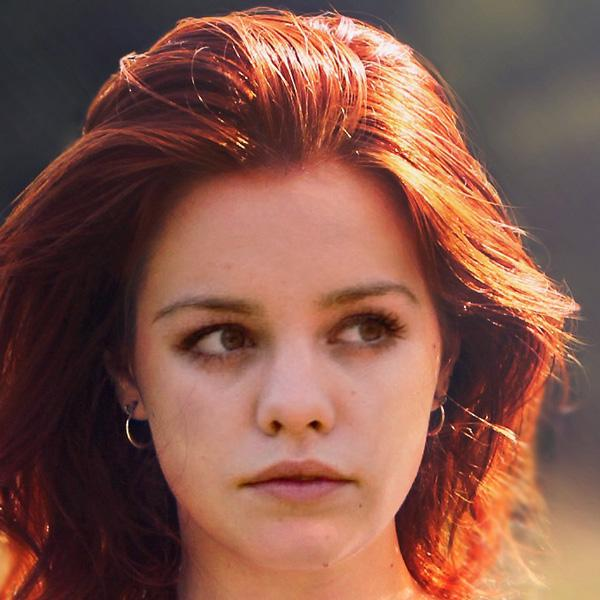Eyes: (171, 311, 268, 371), (315, 302, 402, 362)
